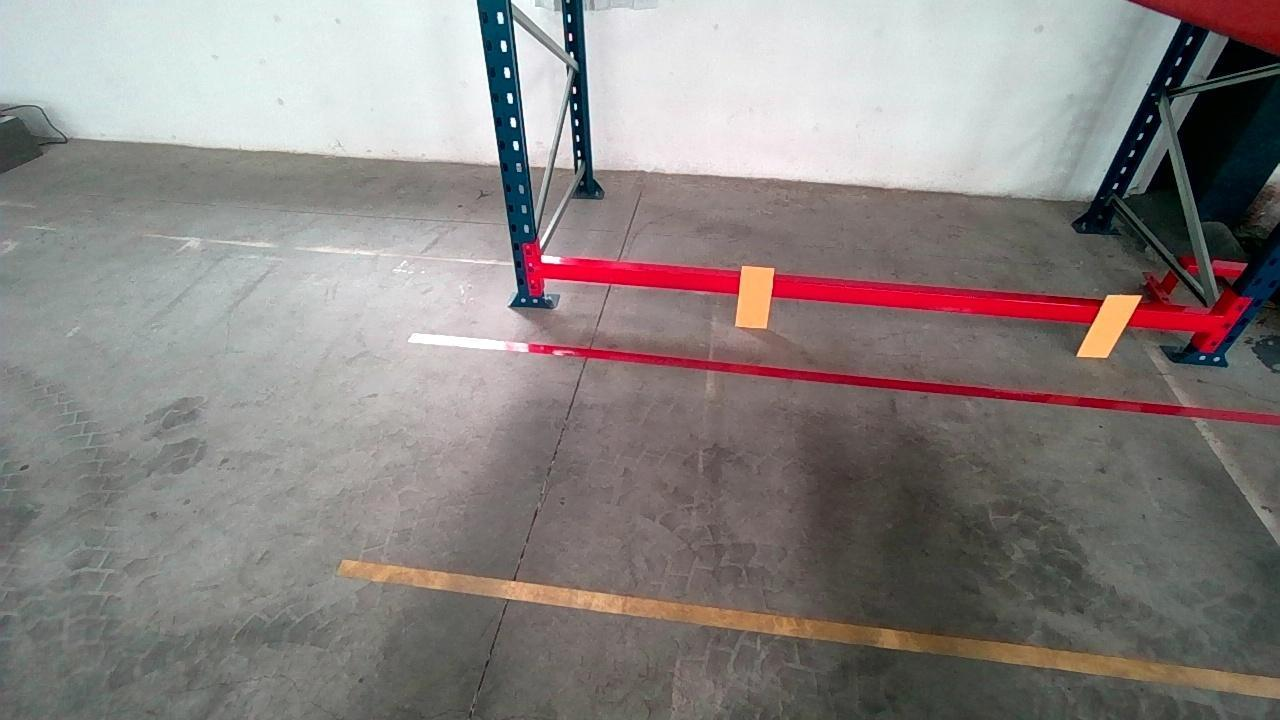h_rack: (531, 253, 1226, 340)
orange_strip: (1079, 294, 1143, 356), (738, 266, 771, 326)
red_line: (407, 333, 1280, 429)
yellow_line: (334, 564, 1280, 695)
